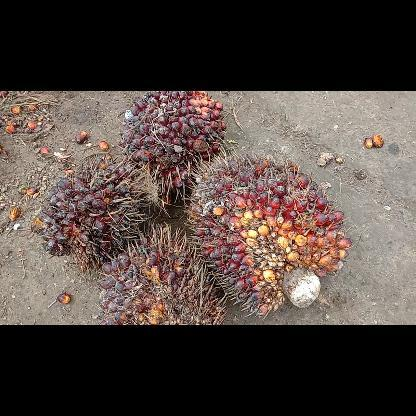TBS masak: (182, 147, 352, 319), (31, 152, 164, 274), (98, 224, 226, 324), (120, 90, 230, 202)
